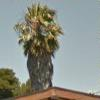Palm tree: (11, 3, 61, 87)
